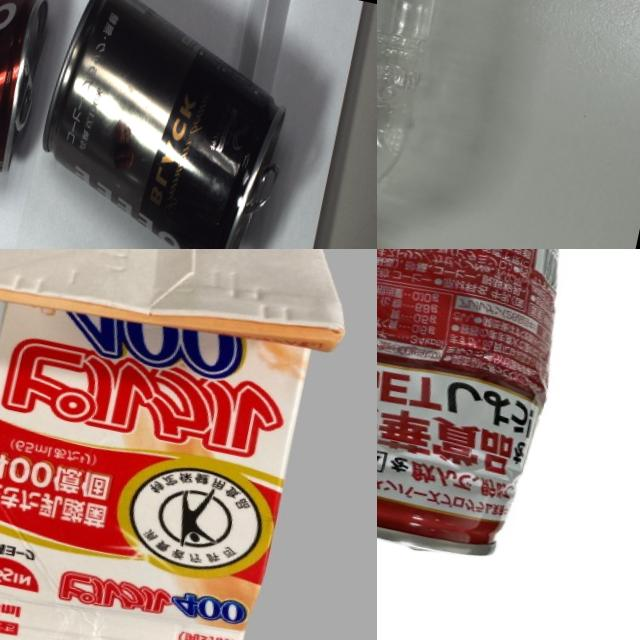Aluminium Foil: (0, 249, 356, 640)
Can: (18, 0, 302, 249), (377, 249, 587, 570)
Transparent Plastic Bottle: (377, 0, 475, 249)
